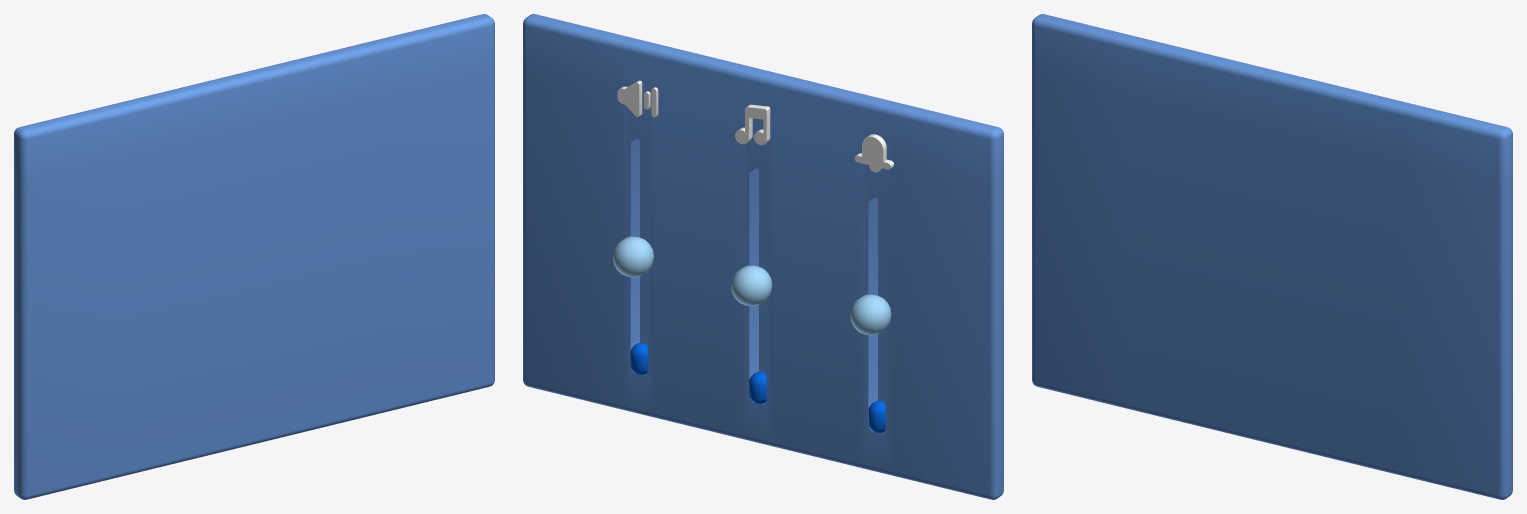
Rendered from UIPanel.fbx.
3 renders of one model, left to right at view 1: azimuth 30°, elevation 25°; view 2: azimuth 150°, elevation 25°; view 3: azimuth 330°, elevation 25°, orthographic.
Visible parts, largest first — view 1: Pan; view 2: Pan, Btn3, Btn2, Btn1, Cube, BGM.001, Cube.001, Bar2, Bar1, Bar3; view 3: Pan.
Part boxes in pixels (<box>): Pan: <box>14,14,494,499</box>; Pan: <box>523,14,1003,499</box>; Btn3: <box>850,294,891,335</box>; Btn2: <box>731,265,772,306</box>; Btn1: <box>613,236,653,277</box>; Cube: <box>617,80,658,117</box>; BGM.001: <box>735,104,770,145</box>; Cube.001: <box>854,134,894,172</box>; Bar2: <box>749,371,766,404</box>; Bar1: <box>630,342,647,375</box>; Bar3: <box>868,400,885,433</box>; Pan: <box>1032,14,1512,499</box>.
Size of the model in its own units: 708 by 525 by 70.84.
